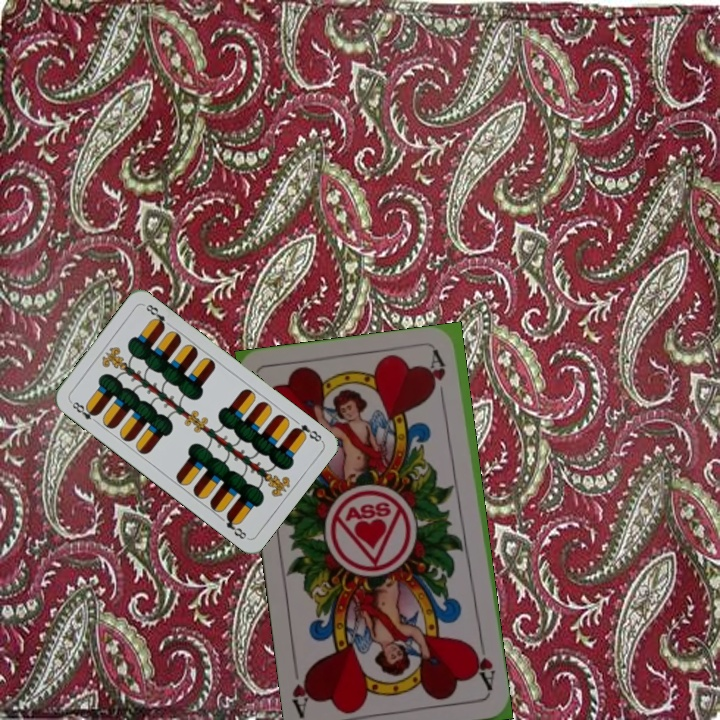E8: (66, 397, 101, 426), (289, 420, 325, 445)
HA: (468, 636, 498, 693)
